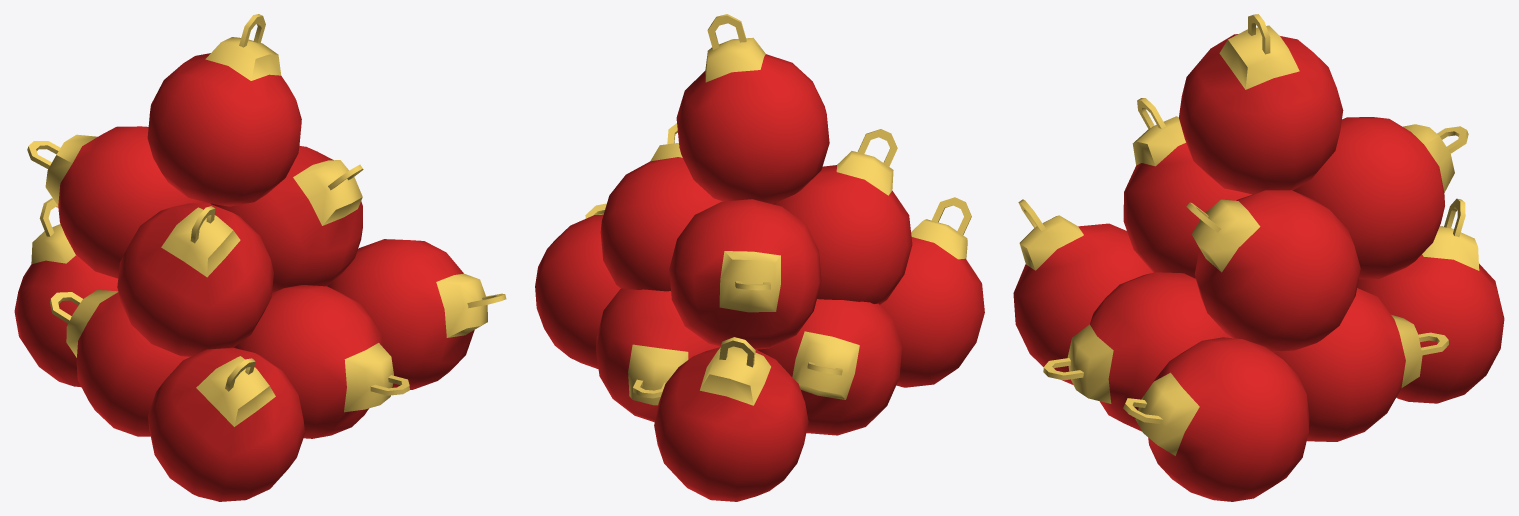
File: Objet1_08.glb
3 views of the same model, side by side, from view 1: azimuth 30°, elevation 25°; view 2: azimuth 150°, elevation 25°; view 3: azimuth 270°, elevation 25° (orthographic). The views are drawn at different scales.
Parts seen in each view (by area): view 1: Sculpture; view 2: Sculpture; view 3: Sculpture.
Part boxes in pixels (box(x1,y1,x2,y2)): Sculpture: box(14, 14, 506, 501); Sculpture: box(535, 14, 984, 501); Sculpture: box(1013, 14, 1504, 501).
Size of the model in its own units: 353 by 368 by 386.
Materials: 1 (1 with a texture image).
